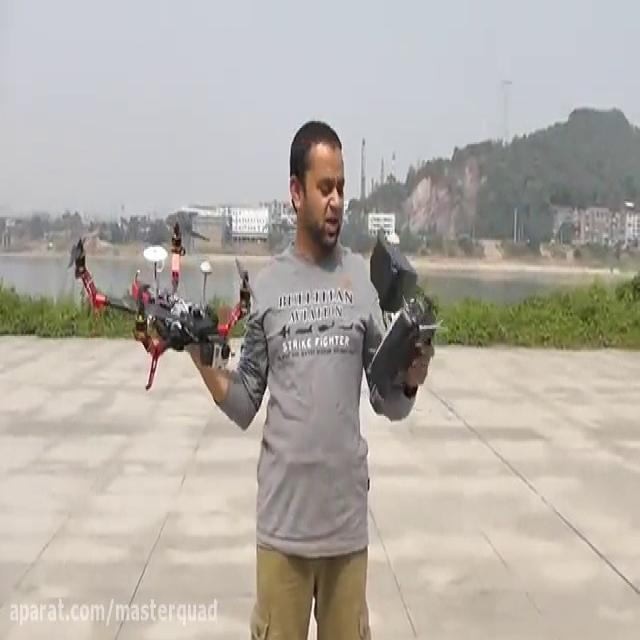drone: (62, 215, 261, 397)
